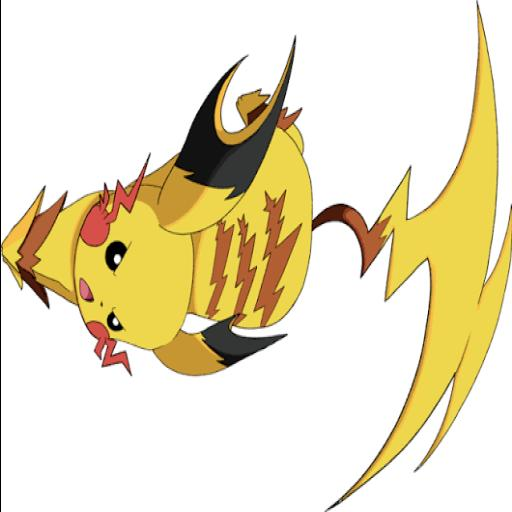Pikachu: (1, 1, 512, 510)
